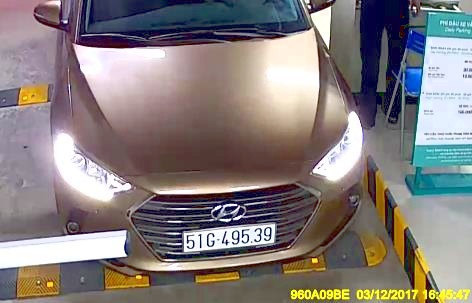plate: (181, 219, 277, 247)
